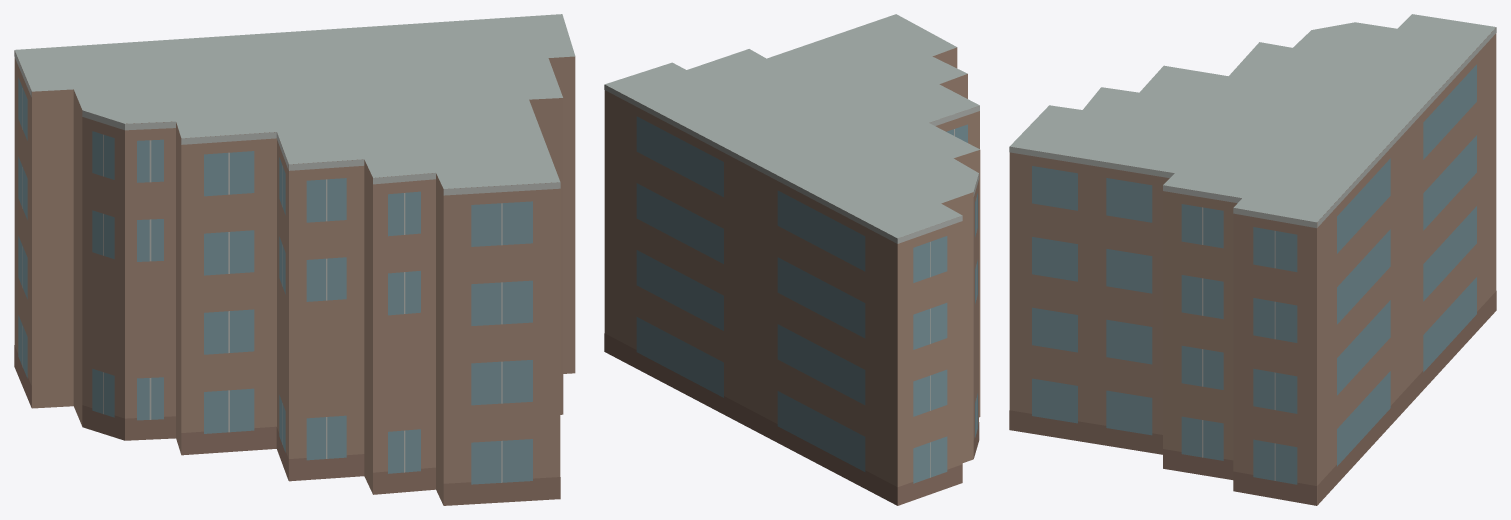
Rendered from survey-upis-32589566.glb.
3 renders of one model, left to right at view 1: azimuth 30°, elevation 25°; view 2: azimuth 150°, elevation 25°; view 3: azimuth 270°, elevation 25°, orthographic. The views are drawn at different scales.
Parts seen in each view (by area): view 1: survey-upis-32589566.tmp; view 2: survey-upis-32589566.tmp; view 3: survey-upis-32589566.tmp.
Boxes of the visible parts, x1,y1,x2,y2 form: survey-upis-32589566.tmp: (14,14,575,505); survey-upis-32589566.tmp: (604,14,980,505); survey-upis-32589566.tmp: (1009,14,1496,505).
Bounding box in the file's own units: 18.78 × 11.9 × 18.54.
